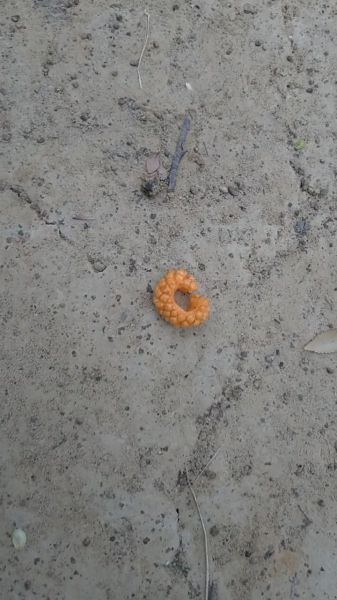eggs: (150, 265, 220, 331)
